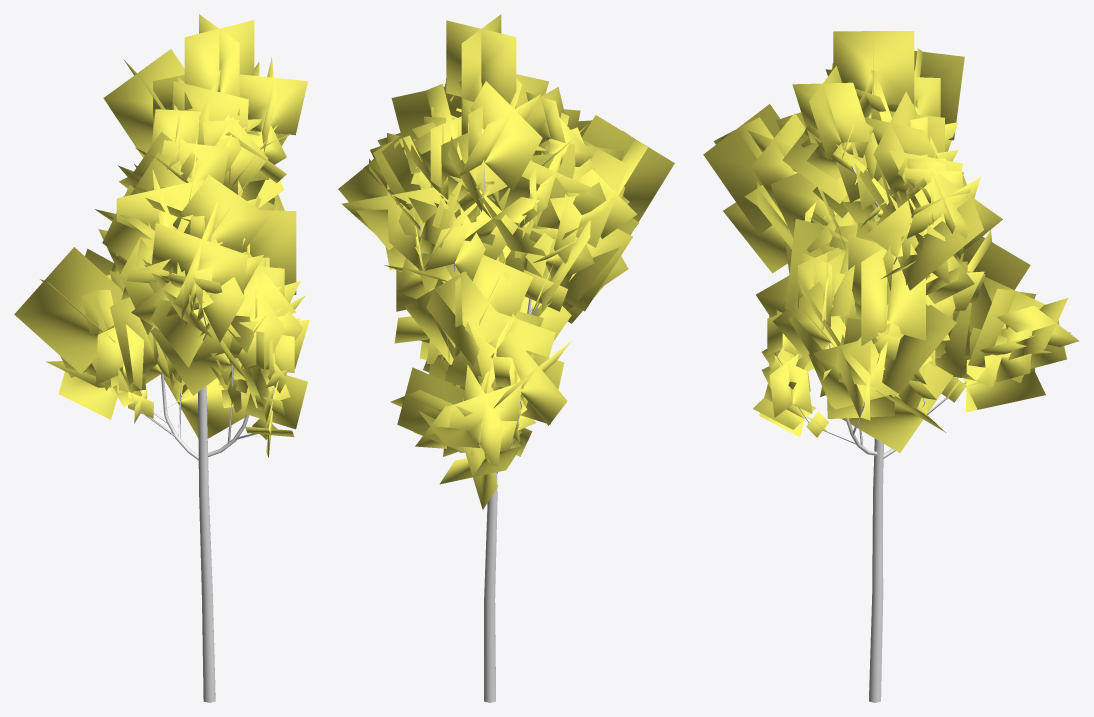
Rendered from aspen_small_v0_lod1.glb.
The picture shows the model from 3 angles, left to right: view 1: azimuth 30°, elevation 25°; view 2: azimuth 150°, elevation 25°; view 3: azimuth 270°, elevation 25°; orthographic projection.
Parts seen in each view (by area): view 1: Leaves, Branches; view 2: Leaves, Branches; view 3: Leaves, Branches.
Boxes of the visible parts, bbox=[...] form: Leaves: bbox=[14, 14, 309, 457]; Branches: bbox=[133, 308, 274, 702]; Leaves: bbox=[338, 14, 674, 509]; Branches: bbox=[420, 139, 550, 702]; Leaves: bbox=[703, 31, 1079, 452]; Branches: bbox=[798, 108, 966, 702].
Size of the model in its own units: 14.78 by 39.1 by 19.82.
